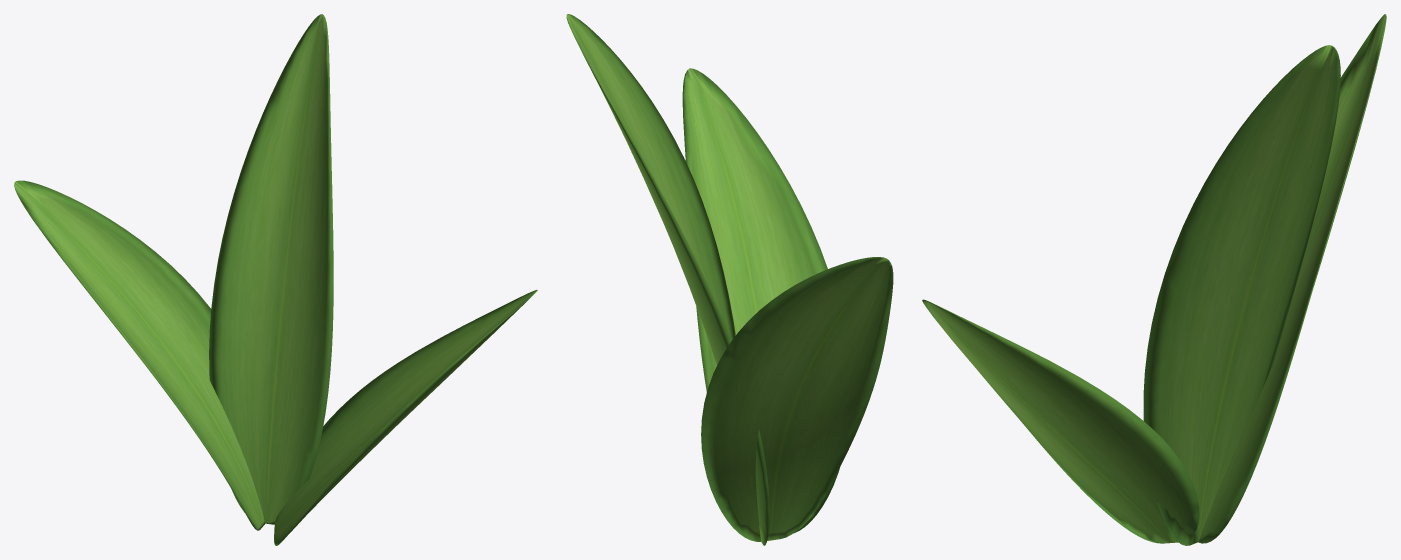
The model's file is NP_Tulip_Young_LOD1.fbx.
3 renders of one model, left to right at view 1: azimuth 30°, elevation 25°; view 2: azimuth 150°, elevation 25°; view 3: azimuth 270°, elevation 25°, orthographic. The views are drawn at different scales.
Parts seen in each view (by area): view 1: NP_Tulip_Young; view 2: NP_Tulip_Young; view 3: NP_Tulip_Young.
Boxes of the visible parts, <box> form: NP_Tulip_Young: <box>14,14,537,545</box>; NP_Tulip_Young: <box>566,14,893,545</box>; NP_Tulip_Young: <box>922,14,1386,545</box>.
Size of the model in its own units: 45.29 by 56.39 by 41.65.
